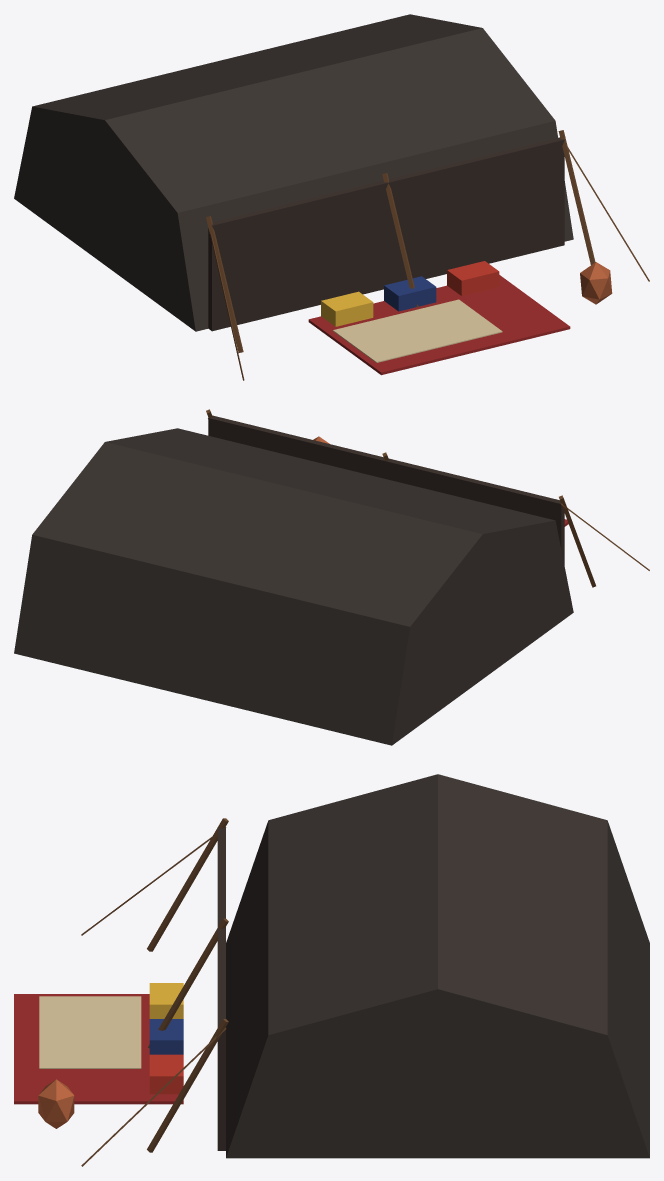
The model's file is talt_beduin.glb.
The picture shows the model from 3 angles, top to bottom: view 1: azimuth 30°, elevation 25°; view 2: azimuth 150°, elevation 25°; view 3: azimuth 270°, elevation 25°; orthographic projection. The views are drawn at different scales.
Parts seen in each view (by area): view 1: talt_beduin; view 2: talt_beduin; view 3: talt_beduin.
Part boxes in pixels (x1,y1,x2,y2): talt_beduin: [14, 14, 649, 380]; talt_beduin: [14, 409, 649, 745]; talt_beduin: [14, 774, 649, 1166].
Size of the model in its own units: 6.45 by 2.22 by 7.5.
